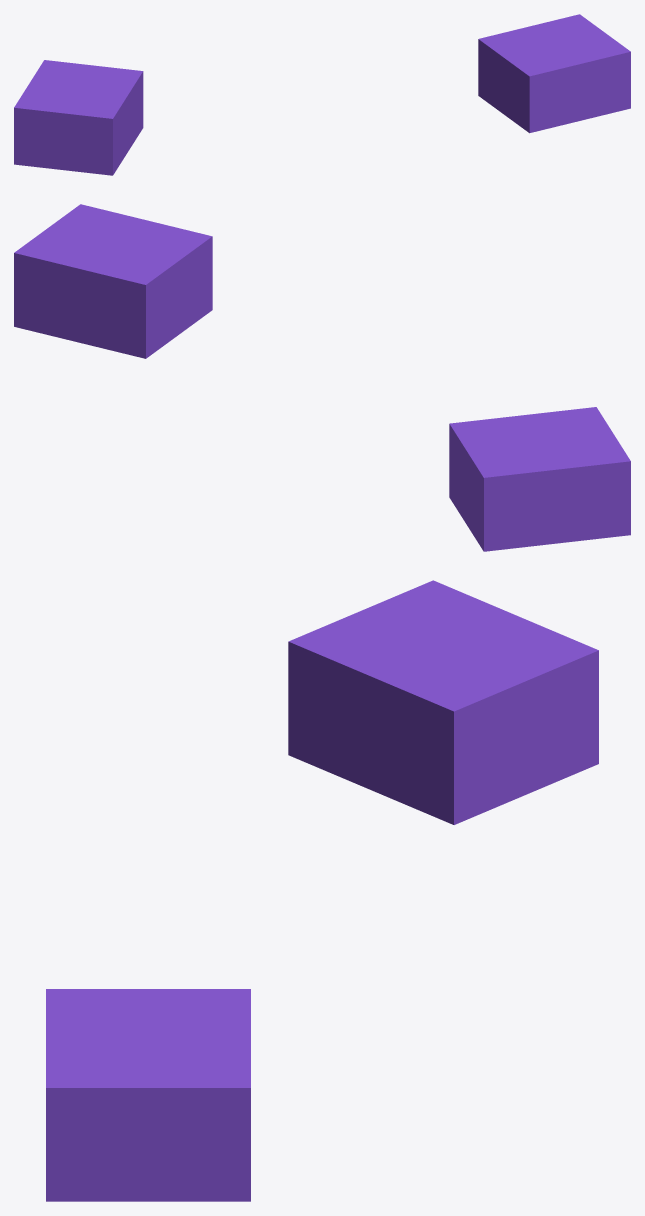
The picture shows the model from 3 angles, top to bottom: view 1: azimuth 30°, elevation 25°; view 2: azimuth 150°, elevation 25°; view 3: azimuth 270°, elevation 25°; orthographic projection. The views are drawn at different scales.
Visible parts, largest first — view 1: Box002, Box001; view 2: Box002, Box001; view 3: Box001, Box002.
Boxes of the visible parts, <box> form: Box002: <box>478,14,630,133</box>; Box001: <box>14,60,143,175</box>; Box002: <box>14,204,212,358</box>; Box001: <box>449,407,630,551</box>; Box001: <box>288,580,598,824</box>; Box002: <box>46,989,250,1201</box>.
Bounding box in the file's own units: 358 × 165 × 37.37.
